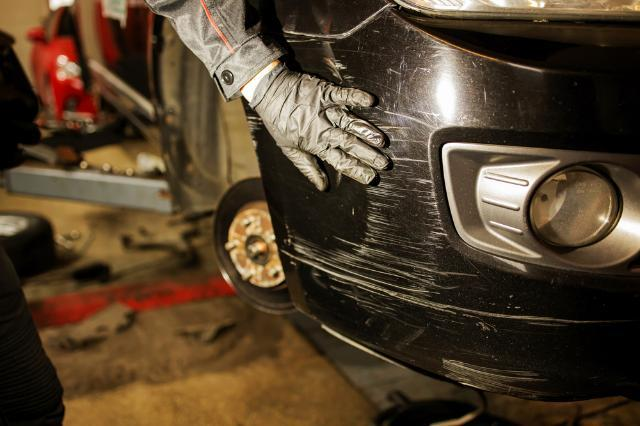scratch: (290, 59, 633, 401)
